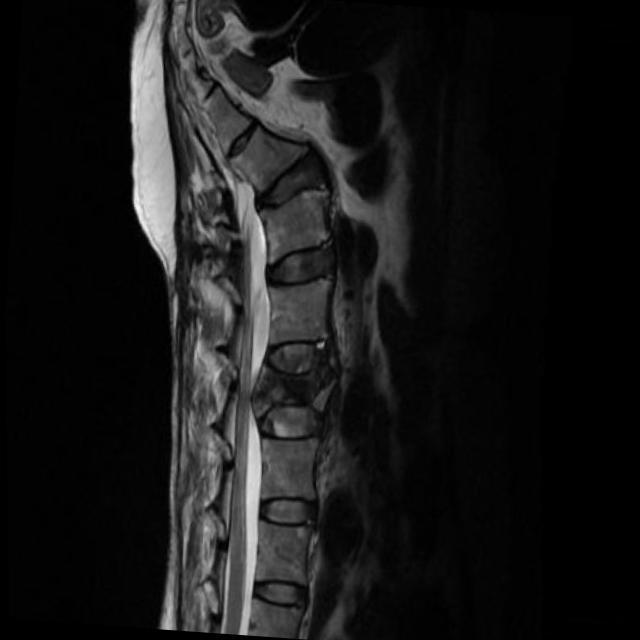Comminuted: (234, 328, 351, 448)
